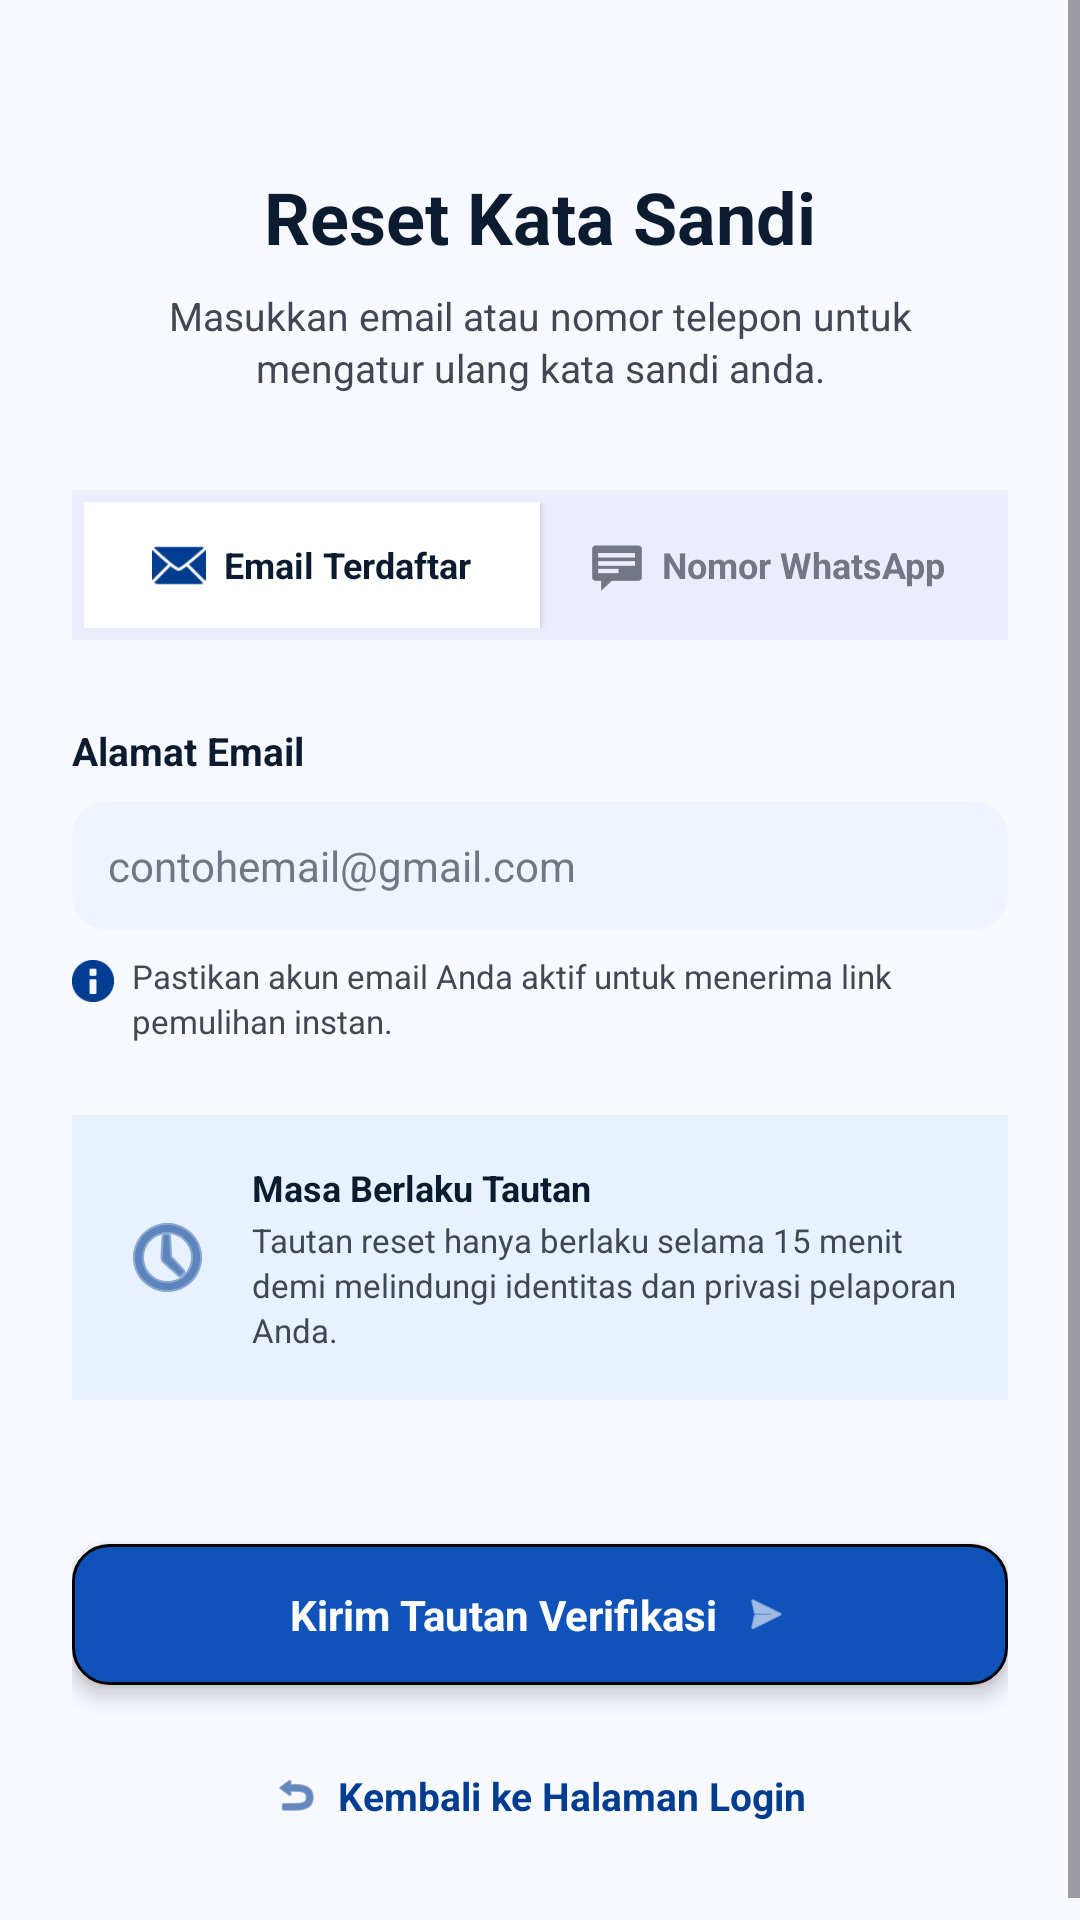

Where icons sit on this 1080*1920 app screen, as (x1,y1,x2,y2):
chat: (592,545,642,591)
info: (72,960,114,1002)
recent history: (133,1223,202,1292)
revert: (279,1780,314,1811)
send: (751,1599,782,1629)
